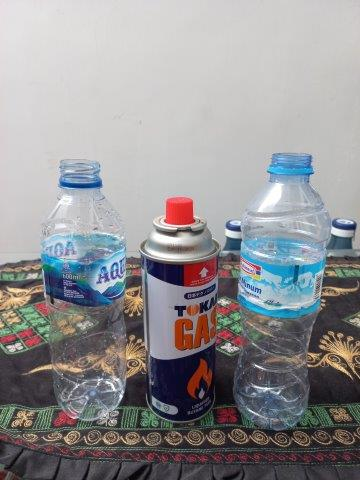botolplastik: (233, 153, 332, 429), (41, 158, 126, 418)
